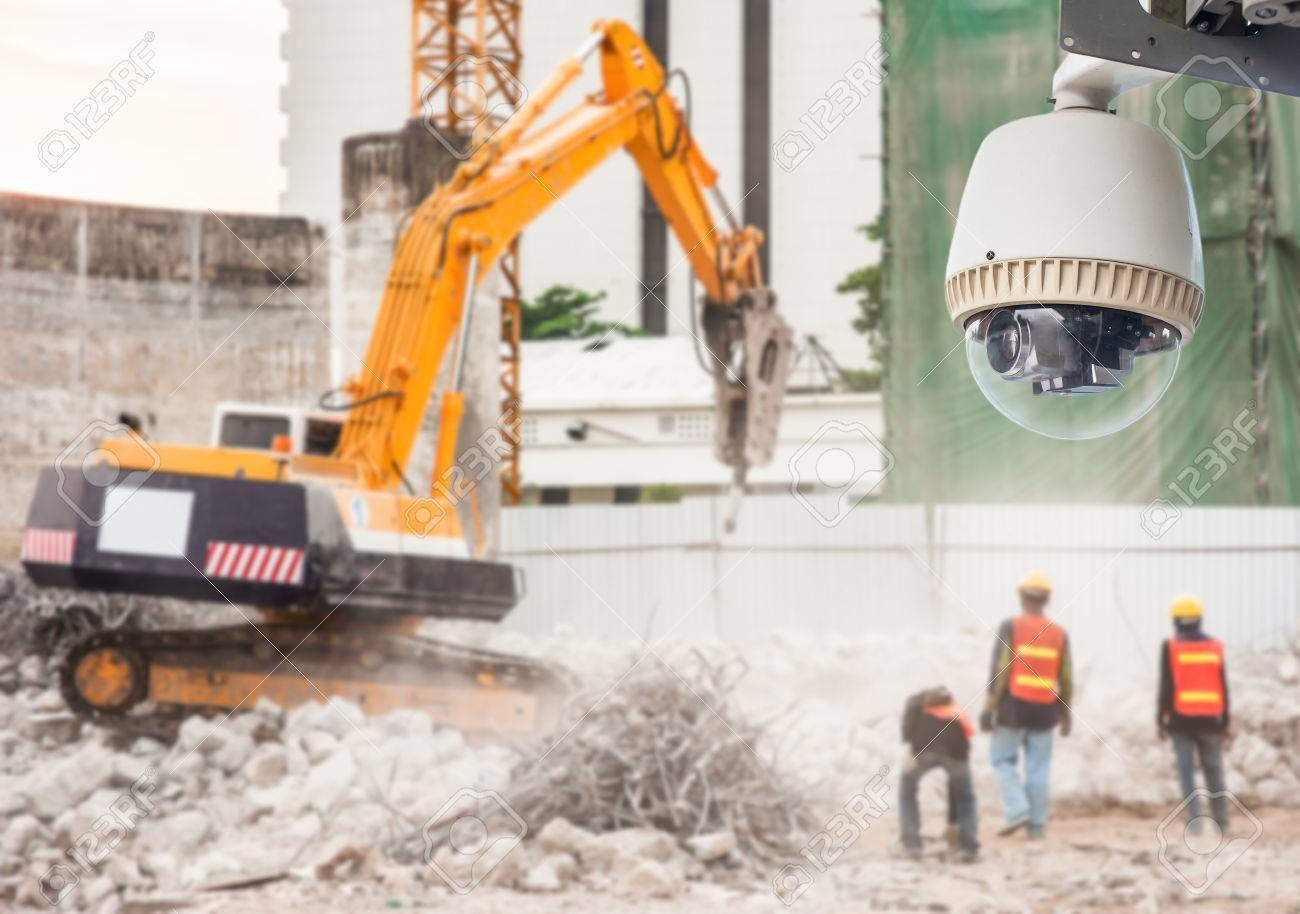yellow: (1164, 589, 1206, 638), (1014, 570, 1055, 616)
